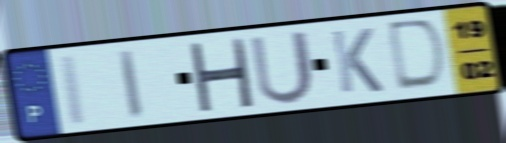D: (387, 16, 451, 94)
H: (186, 37, 256, 112)
I: (57, 51, 91, 129), (116, 46, 146, 121)
K: (327, 26, 386, 96)
U: (247, 27, 318, 107)
